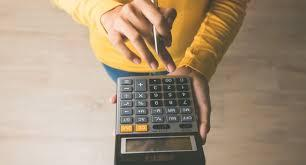Calculator: (113, 70, 211, 162)
